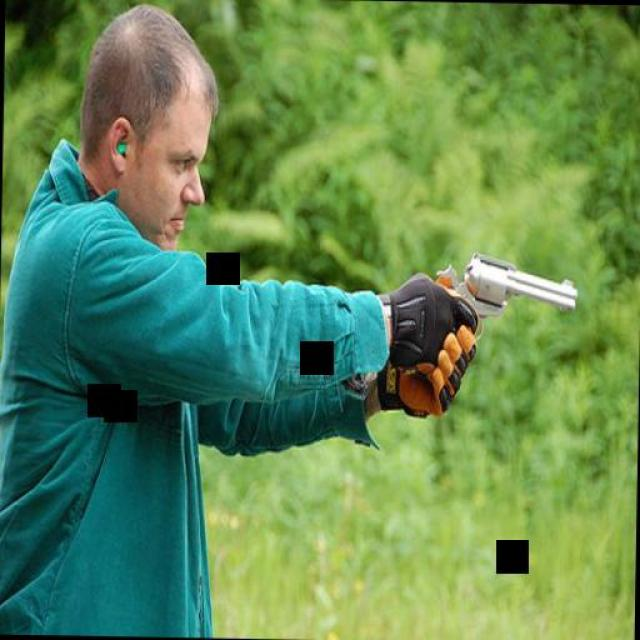gun: (402, 254, 578, 381)
